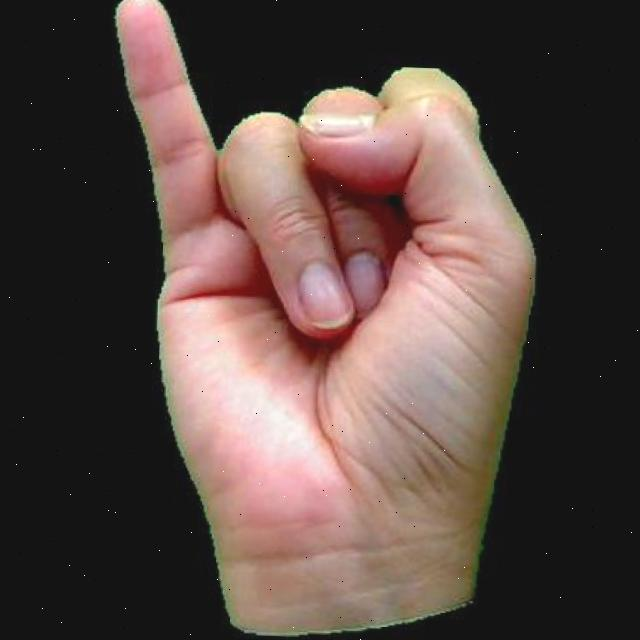i: (79, 0, 547, 640)
